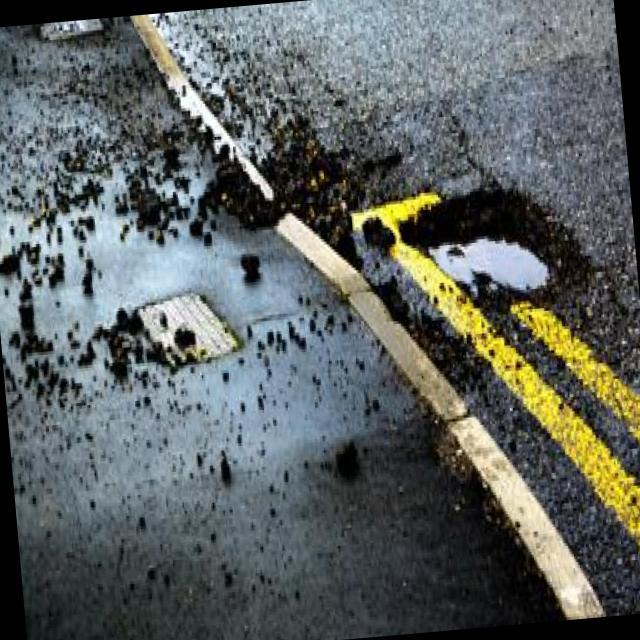Pothole: (0, 85, 632, 537)
